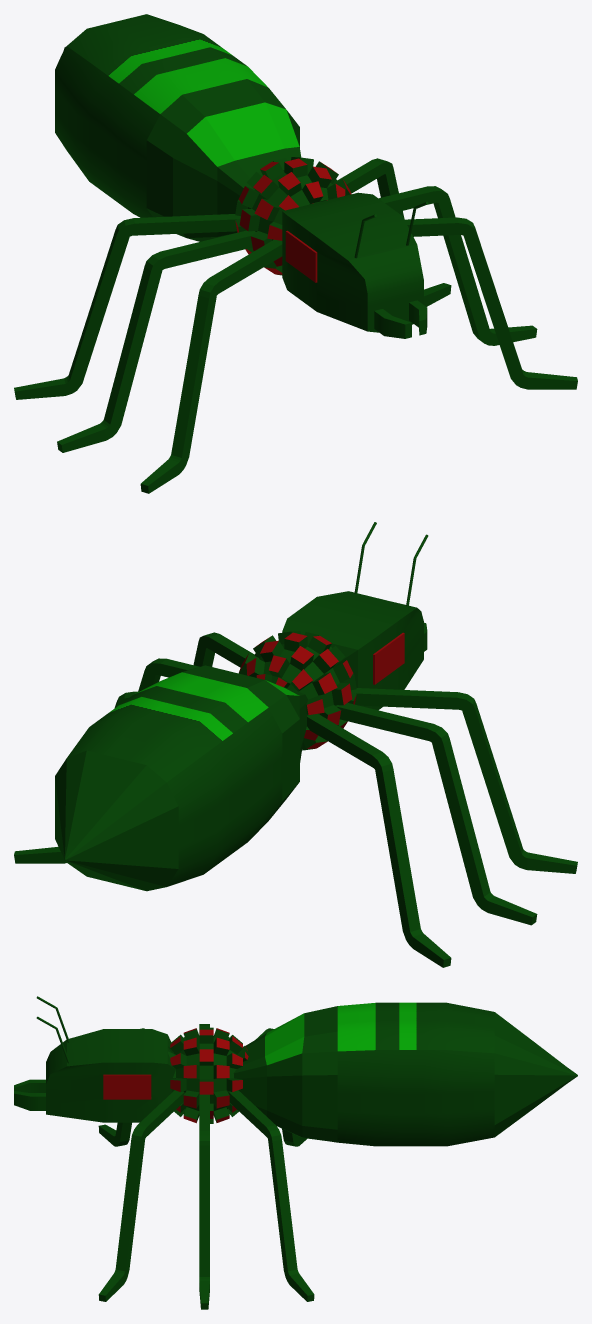
File: 腐敗工蟻.fbx
3 views of the same model, one above another, from view 1: azimuth 30°, elevation 25°; view 2: azimuth 150°, elevation 25°; view 3: azimuth 270°, elevation 25° (orthographic). The views are drawn at different scales.
Visible parts, largest first — view 1: 腹部, head, leg002, core, leg005, leg003, leg004, leg1, leg006; view 2: 腹部, head, core, leg002, leg005, leg003, leg004, leg006, leg1; view 3: 腹部, head, core, leg006, leg004, leg1, leg003.
Part boxes in pixels (bbox=[...]): 腹部: bbox=[55, 14, 301, 241]; head: bbox=[282, 192, 428, 338]; leg002: bbox=[57, 230, 255, 452]; core: bbox=[235, 157, 351, 275]; leg005: bbox=[14, 214, 240, 399]; leg003: bbox=[140, 239, 282, 493]; leg004: bbox=[405, 217, 577, 389]; leg1: bbox=[379, 186, 537, 345]; leg006: bbox=[337, 158, 451, 306]; 腹部: bbox=[55, 665, 307, 891]; head: bbox=[282, 522, 428, 710]; core: bbox=[239, 631, 356, 750]; leg002: bbox=[336, 703, 537, 925]; leg005: bbox=[307, 713, 451, 967]; leg003: bbox=[351, 688, 577, 873]; leg004: bbox=[193, 632, 254, 667]; leg006: bbox=[14, 691, 138, 863]; leg1: bbox=[138, 658, 199, 691]; 腹部: bbox=[233, 1002, 577, 1146]; head: bbox=[14, 996, 175, 1122]; core: bbox=[168, 1027, 248, 1123]; leg006: bbox=[228, 1090, 314, 1301]; leg004: bbox=[98, 1090, 184, 1301]; leg1: bbox=[199, 1094, 209, 1309]; leg003: bbox=[98, 1028, 144, 1146].
Size of the model in its own units: 333 by 175 by 425.
Materials: 1 (1 with a texture image).
